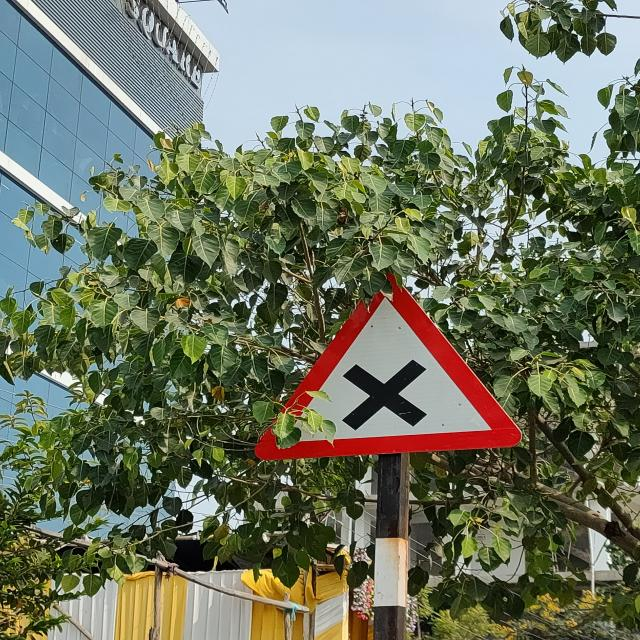CROSS_ROAD: (254, 273, 520, 461)
